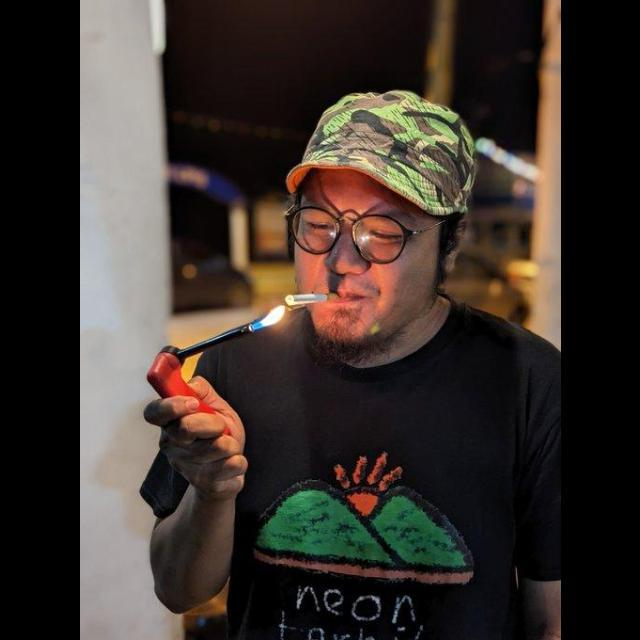rokok: (284, 289, 336, 309)
